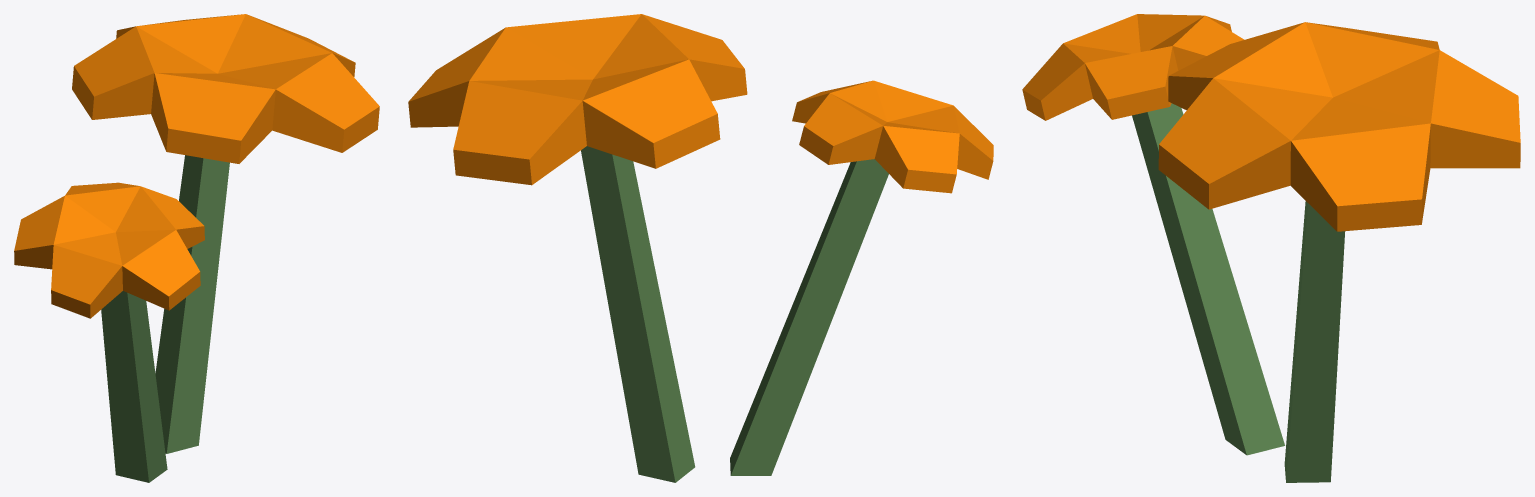
The model's file is event_5.fbx.
The picture shows the model from 3 angles, left to right: view 1: azimuth 30°, elevation 25°; view 2: azimuth 150°, elevation 25°; view 3: azimuth 270°, elevation 25°; orthographic projection. The views are drawn at different scales.
Visible parts, largest first — view 1: event_05; view 2: event_05; view 3: event_05.
Part boxes in pixels (x1,y1,x2,y2): event_05: [14, 14, 379, 482]; event_05: [408, 14, 993, 482]; event_05: [1022, 14, 1520, 482].
Bounding box in the file's own units: 0.0478 × 0.0422 × 0.0433.
Materials: 1 (1 with a texture image).
